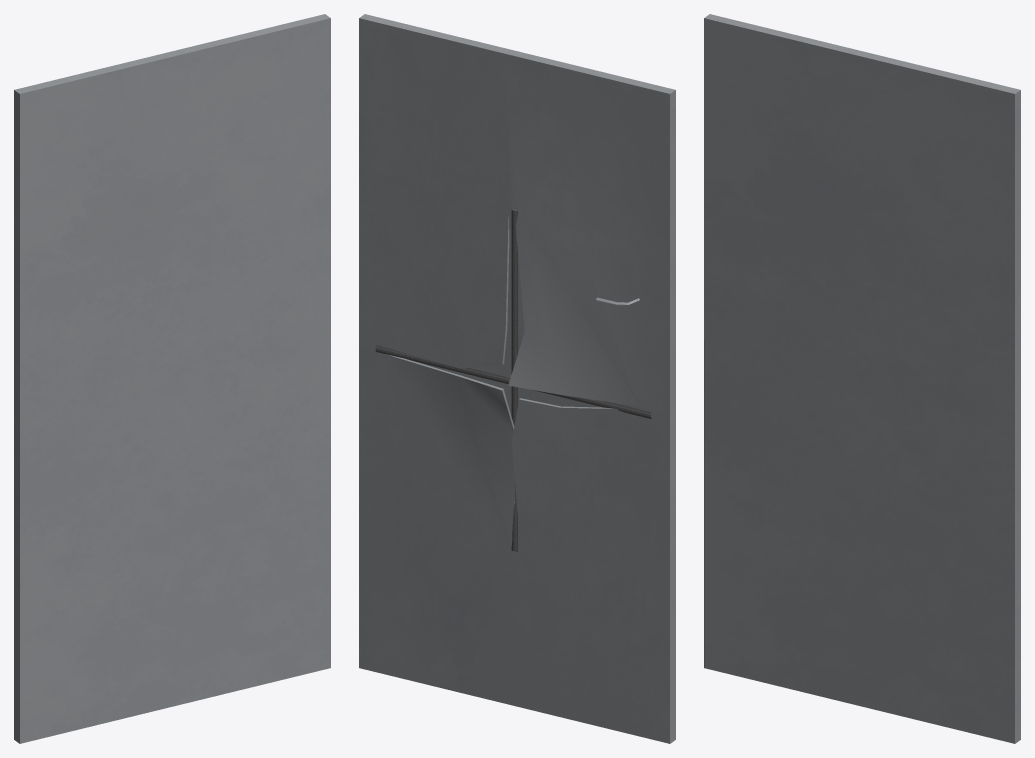
Rendered from Welding Object.fbx.
The picture shows the model from 3 angles, left to right: view 1: azimuth 30°, elevation 25°; view 2: azimuth 150°, elevation 25°; view 3: azimuth 330°, elevation 25°; orthographic projection.
Visible parts, largest first — view 1: Electrical Cabinet Door.Bend; view 2: Electrical Cabinet Door.Bend, No Deform; view 3: Electrical Cabinet Door.Bend.
Part boxes in pixels (x1,y1,x2,y2): Electrical Cabinet Door.Bend: (14, 14, 330, 743); Electrical Cabinet Door.Bend: (359, 14, 675, 743); No Deform: (383, 29, 669, 731); Electrical Cabinet Door.Bend: (704, 14, 1020, 743).
Bounding box in the file's own units: 65.13 × 130 × 5.94.
Materials: 3 (3 with a texture image).
